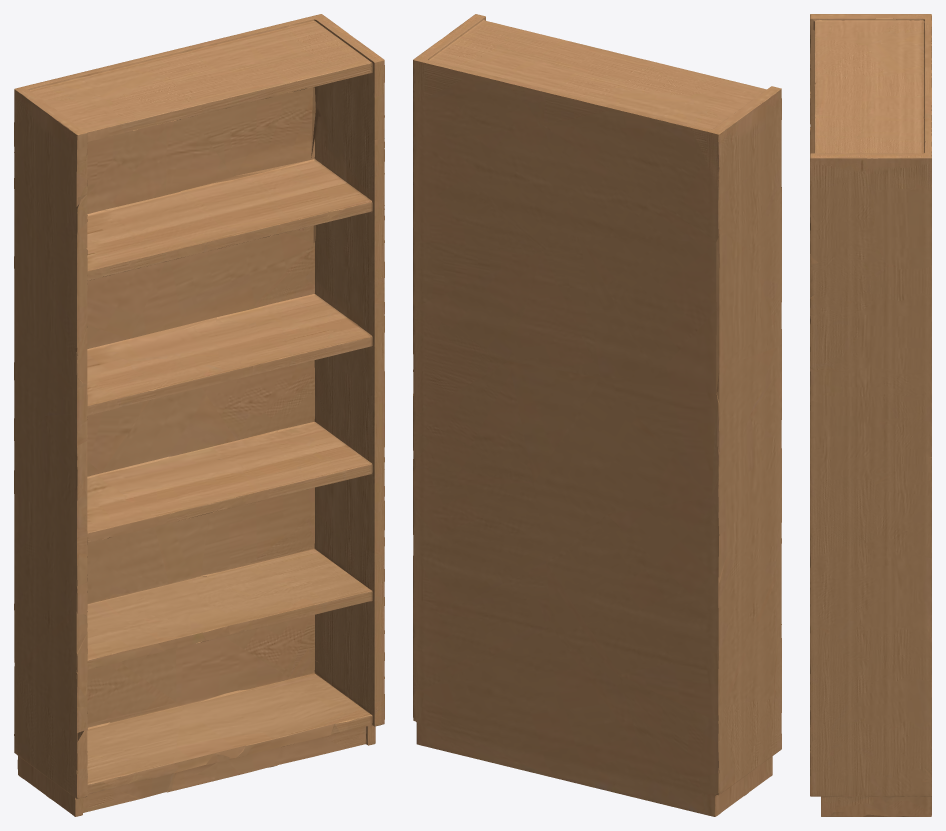
3 renders of one model, left to right at view 1: azimuth 30°, elevation 25°; view 2: azimuth 150°, elevation 25°; view 3: azimuth 270°, elevation 25°, orthographic. The views are drawn at different scales.
Parts seen in each view (by area): view 1: Mesh_0; view 2: Mesh_0; view 3: Mesh_0.
Part boxes in pixels (bbox=[...]): Mesh_0: bbox=[14, 14, 384, 816]; Mesh_0: bbox=[413, 14, 781, 816]; Mesh_0: bbox=[810, 14, 931, 816].
Size of the model in its own units: 0.8637 by 1.84 by 0.3078.
Materials: 1 (1 with a texture image).
